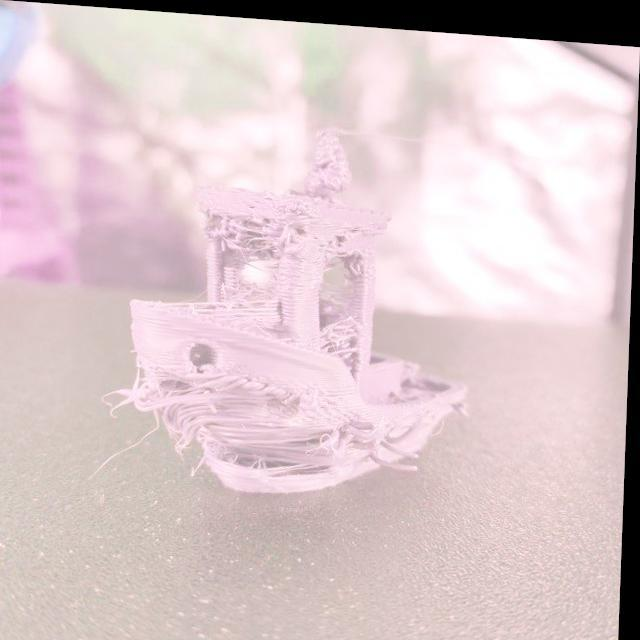spaghetti: (92, 349, 382, 502), (191, 112, 396, 270)
